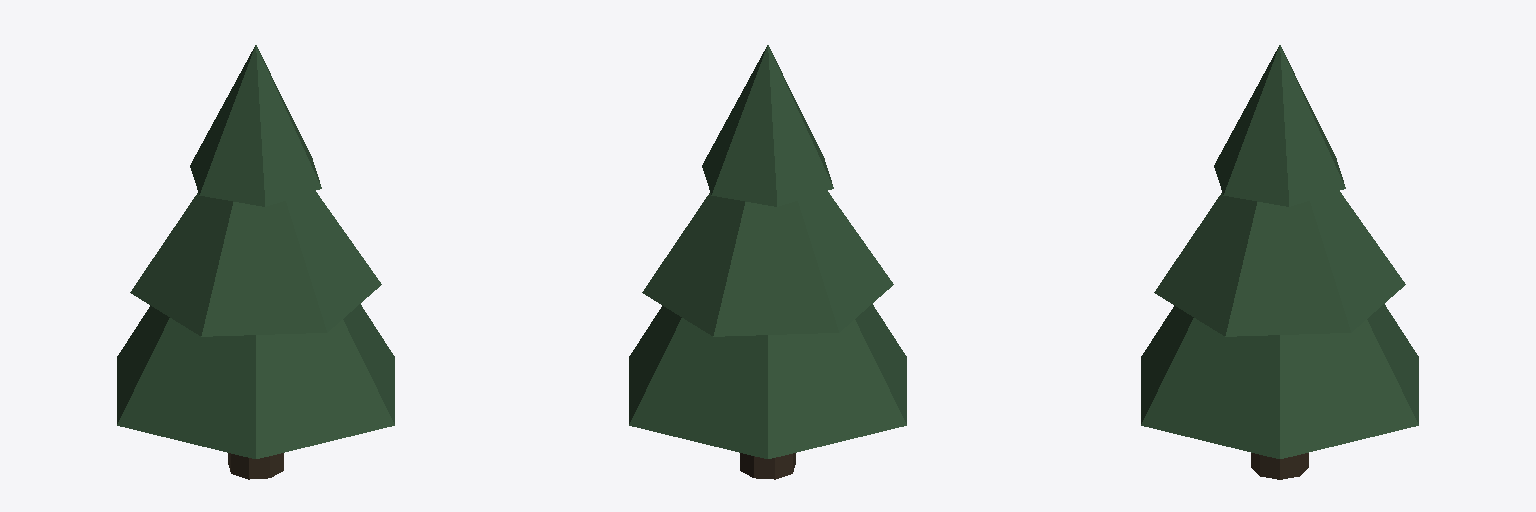
3 renders of one model, left to right at view 1: azimuth 30°, elevation 25°; view 2: azimuth 150°, elevation 25°; view 3: azimuth 270°, elevation 25°, orthographic.
Bounding box in the file's own units: 233 × 339 × 202.
1 materials, 1 textured.